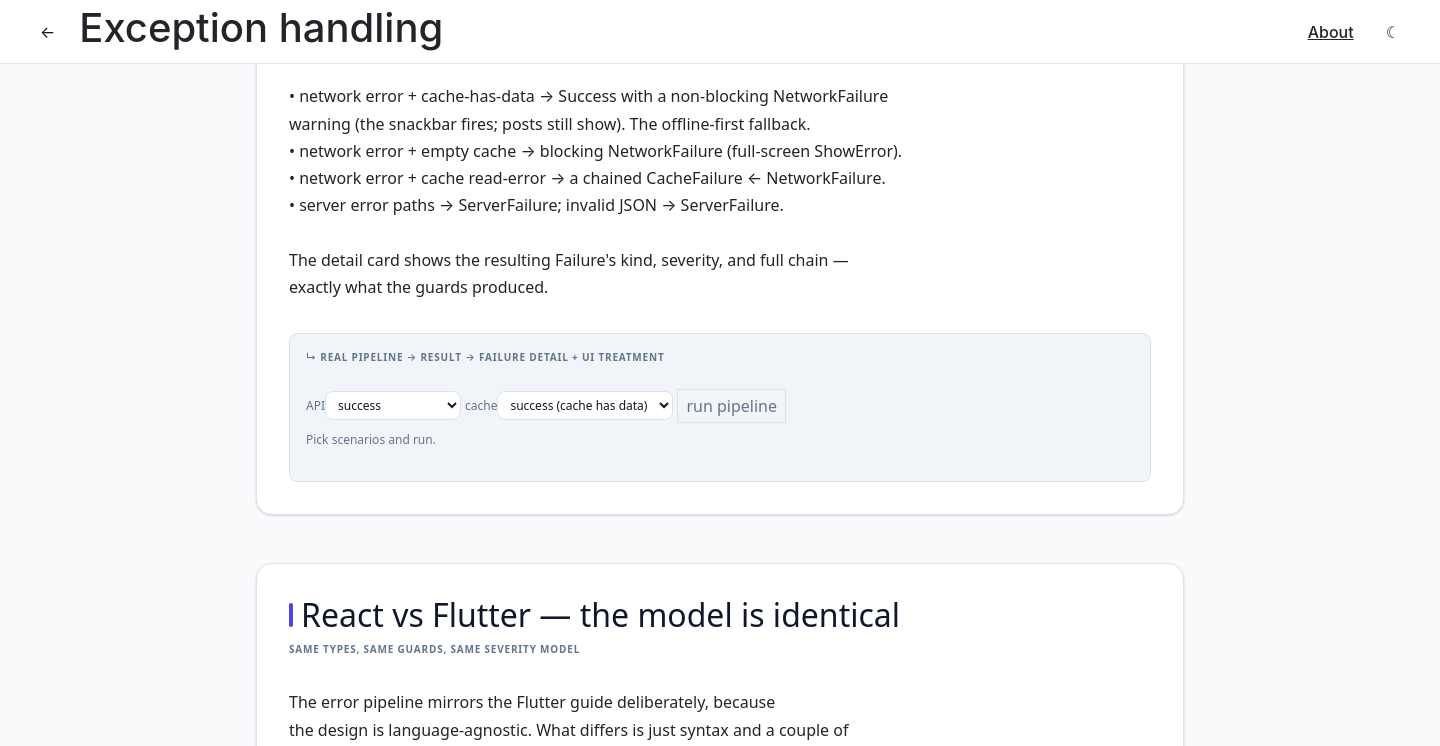
Test: Exception handling screen › shows a non-blocking warning when the remote fails but cache has data
The image size is (1440, 746).
(page scrolled)
Select "network error" in the dropdown labelled "API" at (393, 406), box [325, 391, 461, 420]
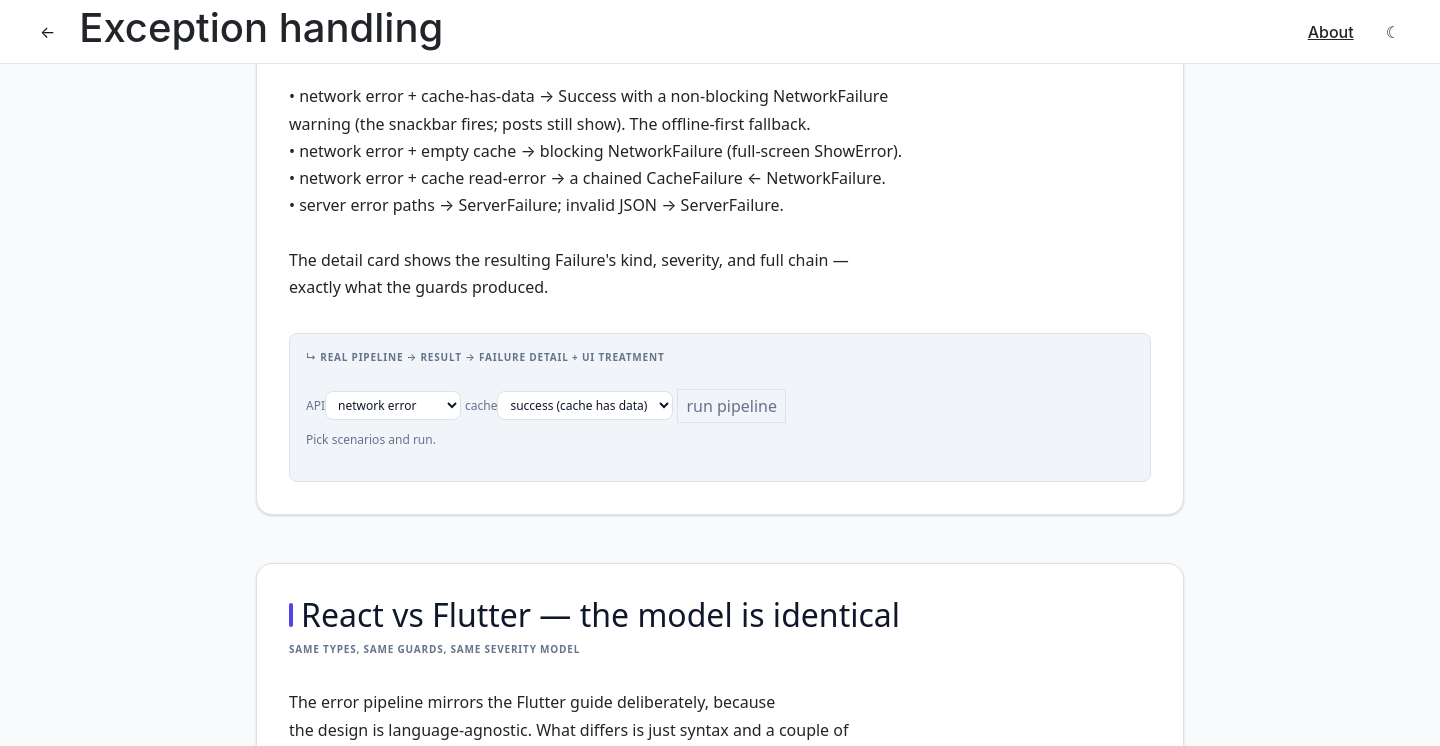
cache defaults to success (has data) — the seeded cache is a hit
Click the button "run pipeline" at (732, 406), box [677, 389, 786, 423]
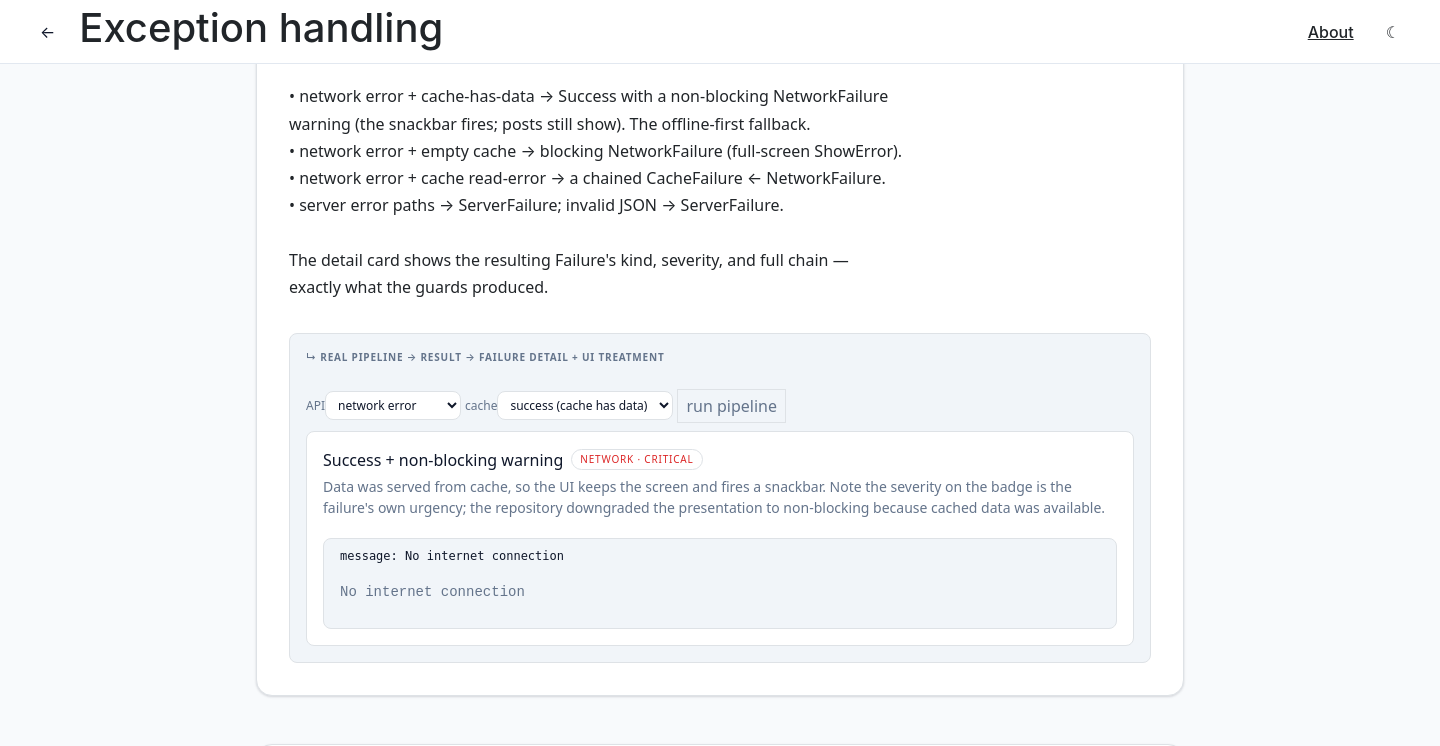
Expected: the element with test id "outcome-warning" is shown, [306, 431, 1134, 646]
Expected: the text with test id "failure-chain" shows "internet", [340, 584, 525, 600]
